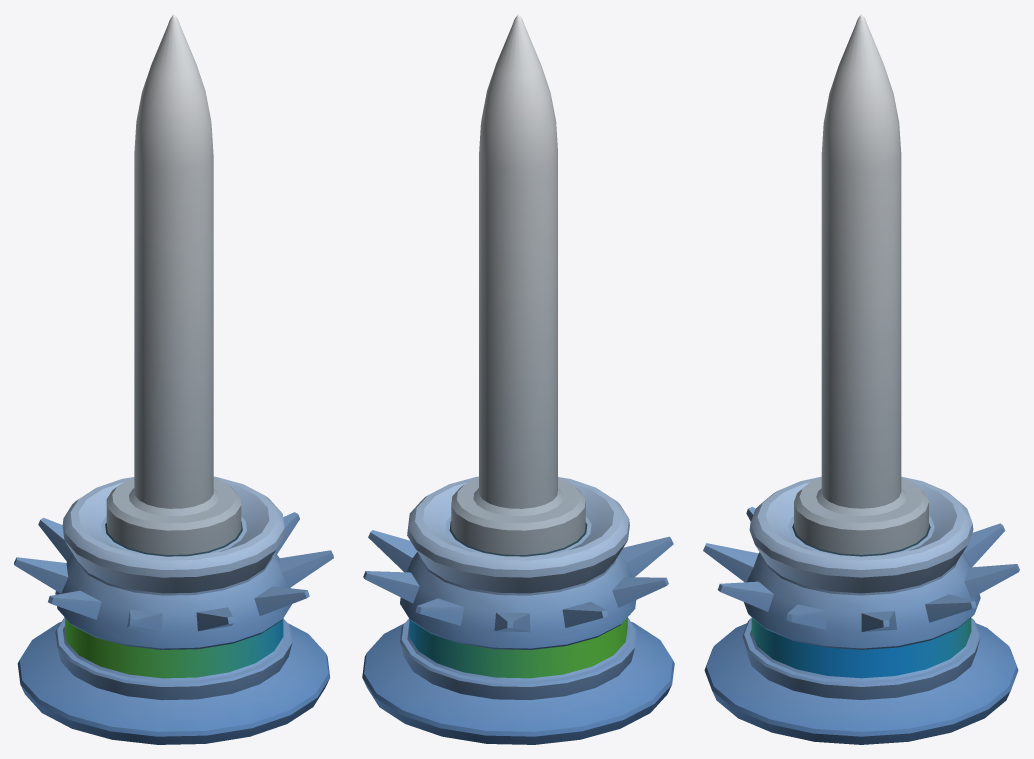
Rendered from 1_Nail_Module.fbx.
The picture shows the model from 3 angles, left to right: view 1: azimuth 30°, elevation 25°; view 2: azimuth 150°, elevation 25°; view 3: azimuth 270°, elevation 25°; orthographic projection.
Parts seen in each view (by area): view 1: Nail_Module, Nail; view 2: Nail_Module, Nail; view 3: Nail_Module, Nail.
Part boxes in pixels (x1,y1,x2,y2): Nail_Module: (14, 476, 333, 744); Nail: (106, 14, 241, 554); Nail_Module: (362, 476, 674, 744); Nail: (451, 14, 585, 554); Nail_Module: (703, 476, 1019, 744); Nail: (794, 14, 928, 554).
Size of the model in its own units: 54.98 by 137 by 54.98.
